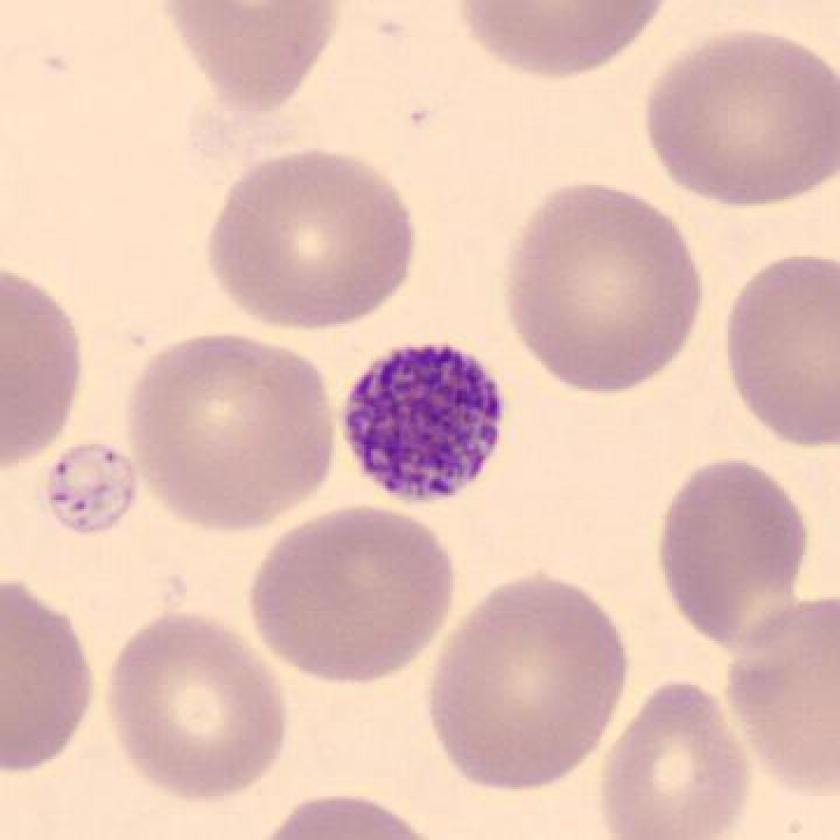platelets: (335, 337, 514, 510), (41, 436, 146, 533)
